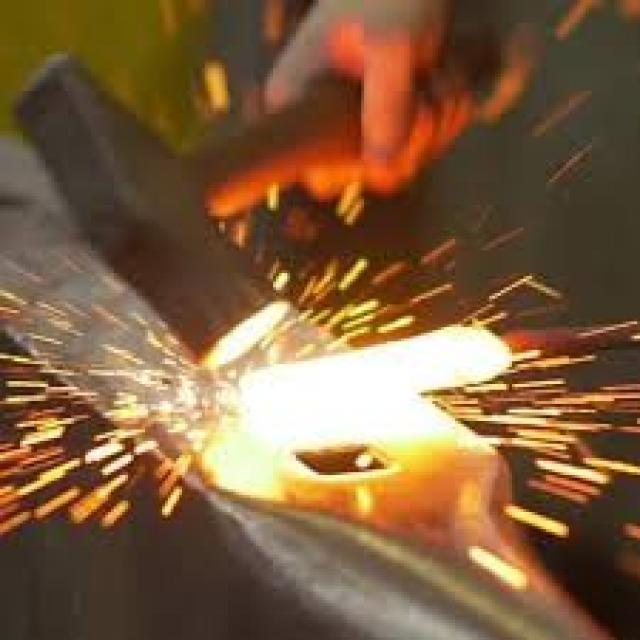hammer: (7, 44, 570, 408)
